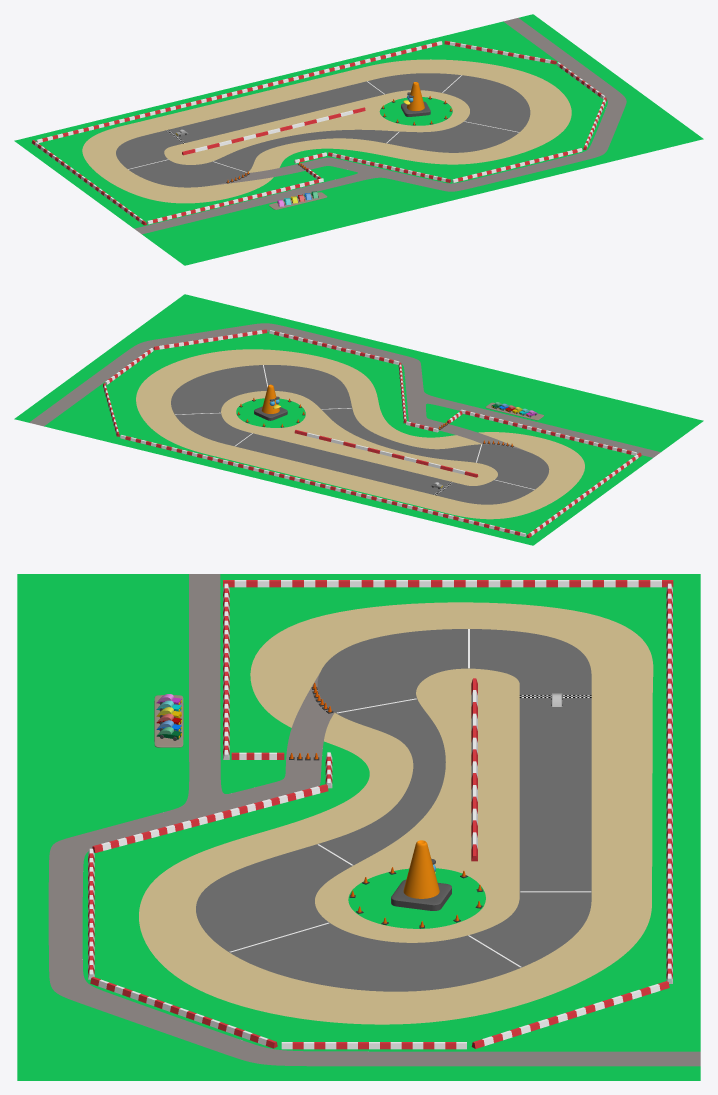
File: Track1.fbx
3 renders of one model, top to bottom at view 1: azimuth 30°, elevation 25°; view 2: azimuth 150°, elevation 25°; view 3: azimuth 270°, elevation 25°, orthographic. The views are drawn at different scales.
Visible parts, largest first — view 1: Grass2, Gravel2, Road, RoadEntry, Gravel1, Barrier.001, Grass1, Barrier.011, Barrier.003, Barrier.002, Barrier.004, BigCone (+2 smaller); view 2: Grass2, Gravel2, Road, RoadEntry, Gravel1, Barrier.001, Grass1, Barrier.011, Barrier.003, Barrier.002, Barrier.004, BigCone (+1 smaller); view 3: Grass2, Gravel2, Road, RoadEntry, Gravel1, Grass1, Barrier.002, Barrier.001, BigCone, Barrier.007, Barrier.010, Barrier.009 (+4 smaller).
Part boxes in pixels (left/top/right/bottom): Grass2: left=14, top=14, right=703, bottom=265; Gravel2: left=82, top=59, right=571, bottom=203; Road: left=116, top=73, right=530, bottom=187; RoadEntry: left=134, top=18, right=626, bottom=234; Gravel1: left=164, top=90, right=469, bottom=164; Barrier.001: left=36, top=41, right=442, bottom=143; Grass1: left=379, top=97, right=452, bottom=125; Barrier.011: left=182, top=107, right=365, bottom=155; Barrier.003: left=147, top=178, right=323, bottom=224; Barrier.002: left=32, top=140, right=146, bottom=225; Barrier.004: left=452, top=148, right=582, bottom=182; BigCone: left=401, top=82, right=430, bottom=116; Grass2: left=14, top=294, right=703, bottom=545; Gravel2: left=136, top=349, right=584, bottom=519; Road: left=171, top=365, right=549, bottom=504; RoadEntry: left=29, top=323, right=660, bottom=457; Gravel1: left=221, top=391, right=497, bottom=485; Barrier.001: left=120, top=435, right=526, bottom=536; Grass1: left=236, top=398, right=305, bottom=427; Barrier.011: left=294, top=430, right=478, bottom=477; Barrier.003: left=460, top=409, right=637, bottom=455; Barrier.002: left=526, top=452, right=641, bottom=537; Barrier.004: left=269, top=330, right=399, bottom=364; BigCone: left=254, top=384, right=287, bottom=420; Grass2: left=17, top=574, right=700, bottom=1080; Gravel2: left=139, top=602, right=653, bottom=1024; Road: left=196, top=629, right=591, bottom=991; RoadEntry: left=48, top=574, right=700, bottom=1066; Gravel1: left=315, top=668, right=519, bottom=942; Grass1: left=348, top=868, right=485, bottom=928; Barrier.002: left=223, top=580, right=673, bottom=587; Barrier.001: left=666, top=583, right=672, bottom=983; BigCone: left=391, top=840, right=451, bottom=910; Barrier.007: left=92, top=784, right=328, bottom=852; Barrier.010: left=471, top=981, right=669, bottom=1048; Barrier.009: left=90, top=977, right=277, bottom=1048.
Size of the model in its own units: 305 by 174 by 15.93.
